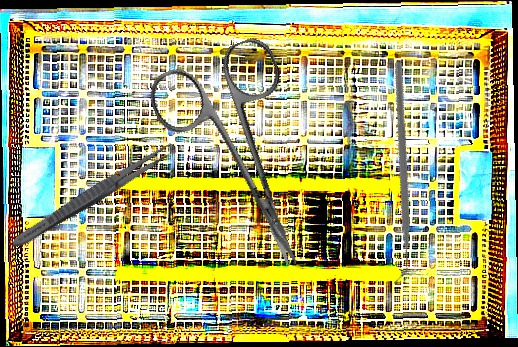Chopper: (290, 59, 503, 286)
Dressing Forceps: (7, 137, 178, 254)
Iris Scissors: (142, 32, 349, 291)
